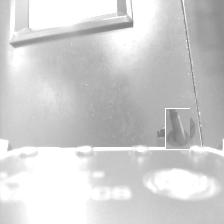Door Handle: (161, 112, 194, 145)
